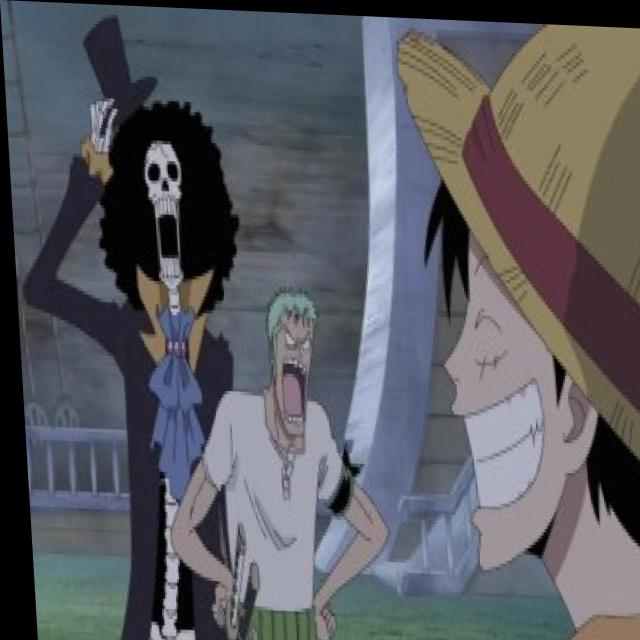Blook: (73, 63, 249, 345)
Luffy: (409, 15, 640, 599)
Zoro: (254, 279, 323, 460)
